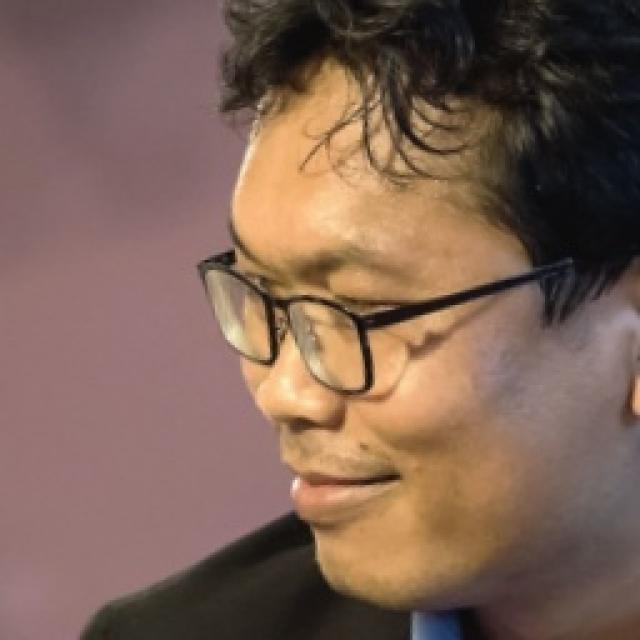glasses: (197, 236, 593, 397)
